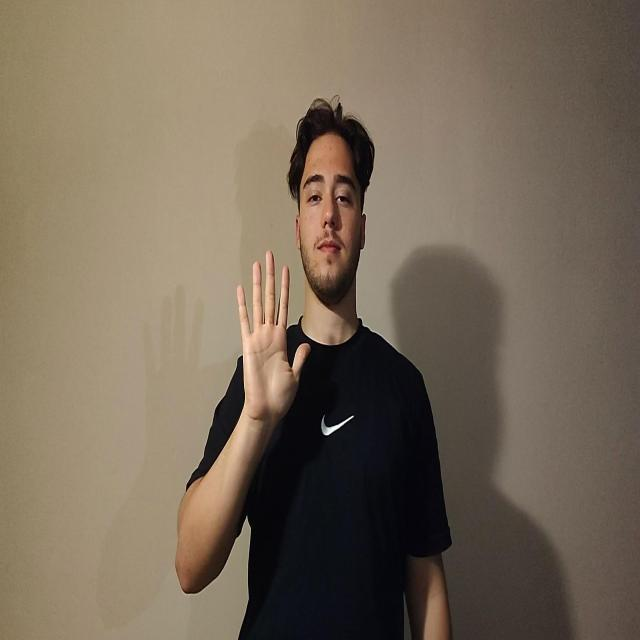hello: (236, 249, 311, 424)
